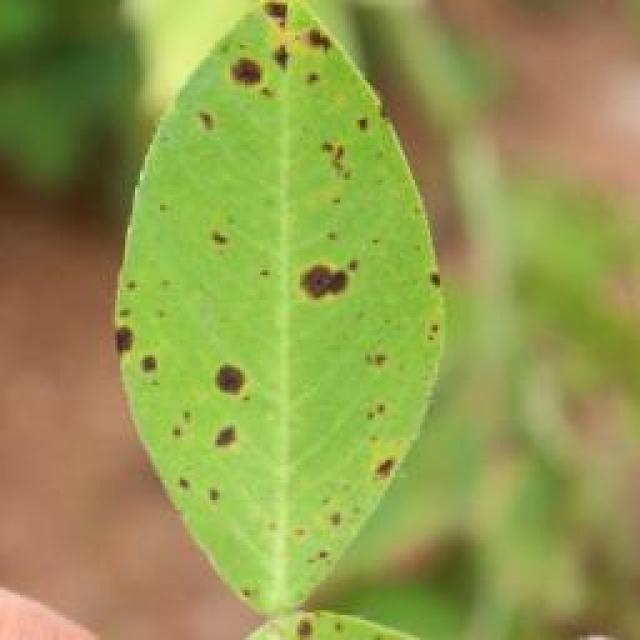Yellowish: (100, 4, 454, 600)
